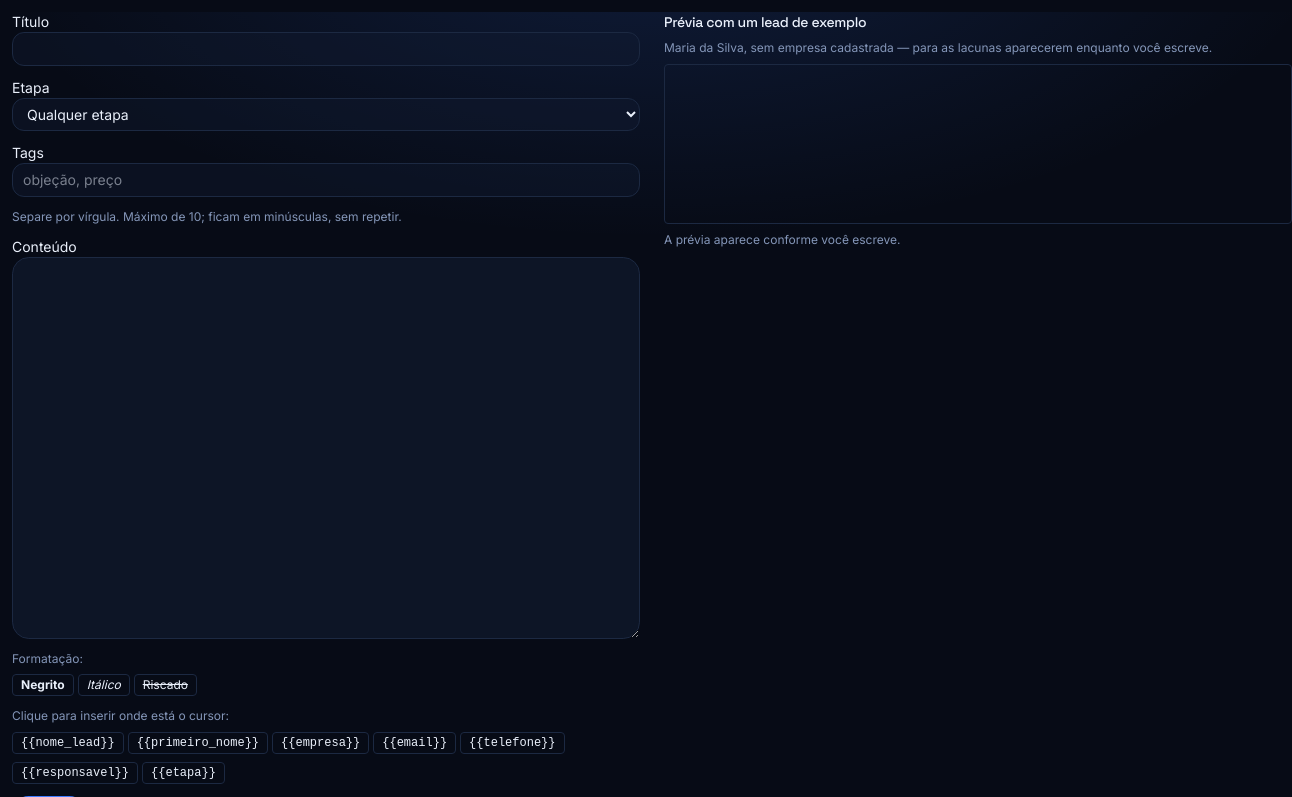
Test: Editor de script › Caso 3d: Negrito sem selecao insere par vazio com o cursor entre os delimitadores
The image size is (1292, 797).
Type "Olá , tudo bem?" into the text box labelled "Conteúdo". click: {"x": 326, "y": 448}
box: top-left (12, 257), bottom-right (640, 639)
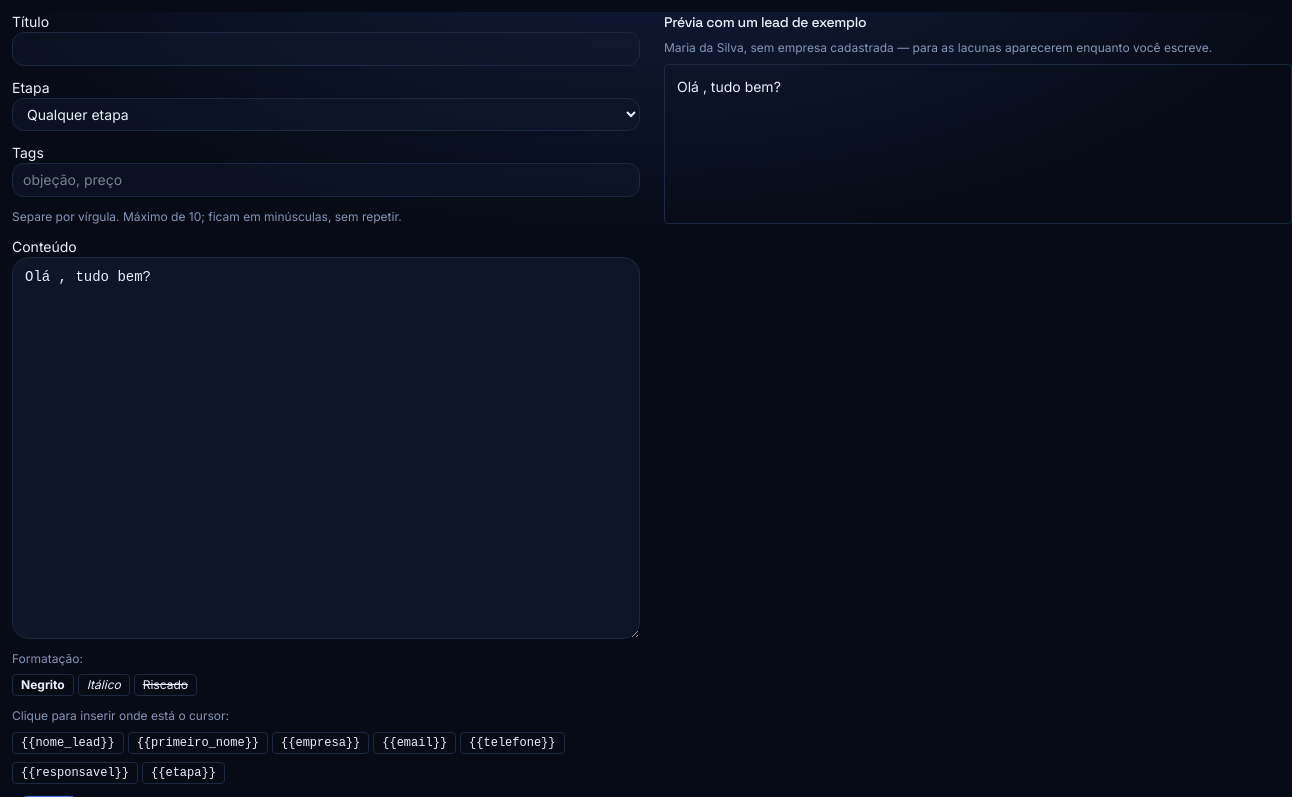
Click the button "Negrito". click: {"x": 43, "y": 685}
box: top-left (12, 674), bottom-right (74, 696)
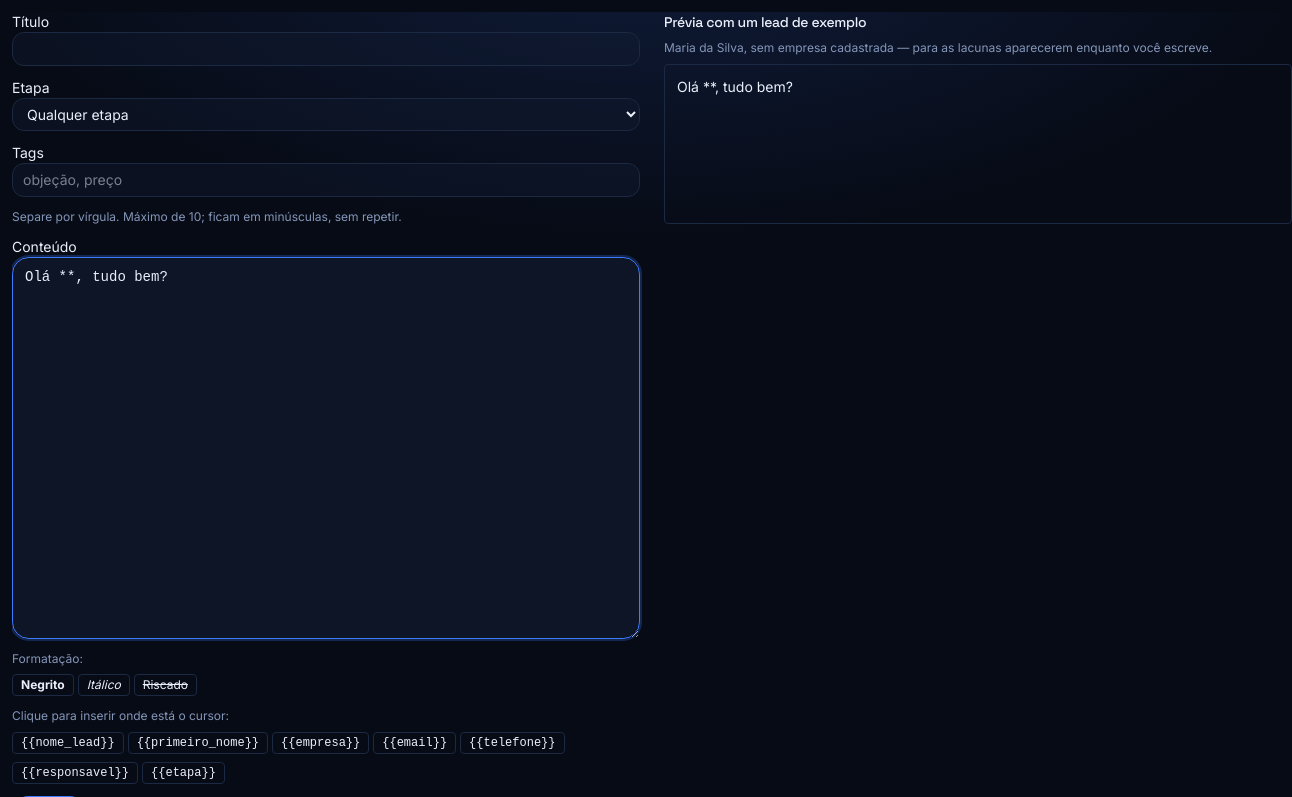
Now the text box labelled "Conteúdo" holds "Olá **, tudo bem?", box top-left (12, 257), bottom-right (640, 639)
